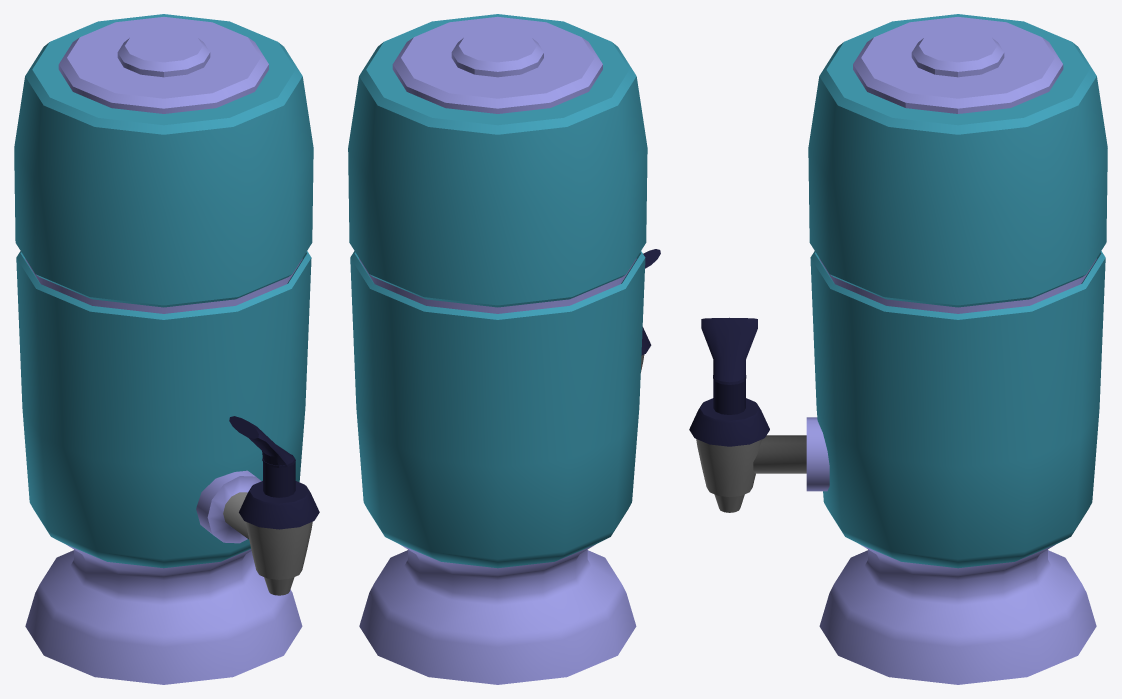
The model's file is filtro.FBX.
The picture shows the model from 3 angles, left to right: view 1: azimuth 30°, elevation 25°; view 2: azimuth 150°, elevation 25°; view 3: azimuth 270°, elevation 25°; orthographic projection.
Visible parts, largest first — view 1: Cylinder001; view 2: Cylinder001; view 3: Cylinder001.
Part boxes in pixels (<box>): Cylinder001: <box>14,14,319,684</box>; Cylinder001: <box>348,14,660,684</box>; Cylinder001: <box>689,14,1107,684</box>.
Bounding box in the file's own units: 24.01 × 51.36 × 33.57.
